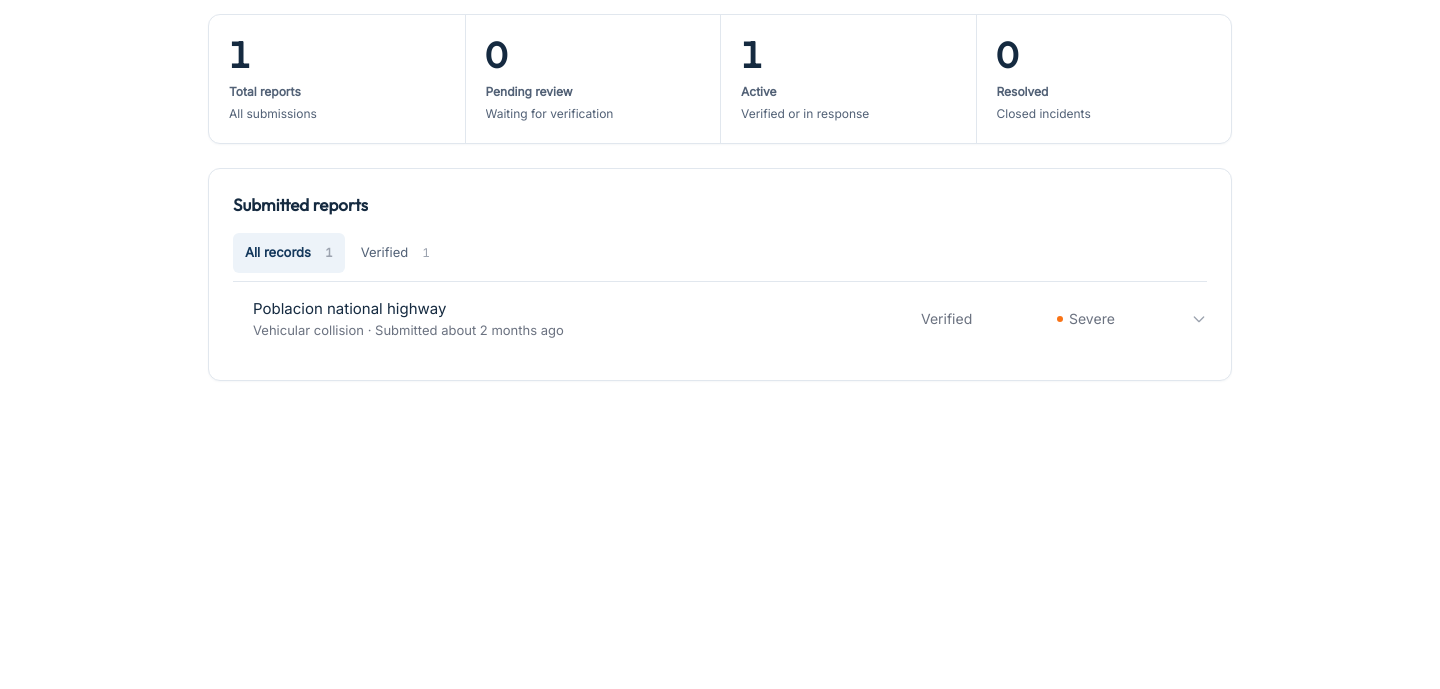
Test case: MyReports Evidence Inspection and Modal Experience › 2. Allows retrying thumbnail loading when network error occurs
The image size is (1440, 689).
Click the heading "Poblacion national highway" at {"x": 350, "y": 308}, box 253,299 -> 446,318
(page scrolled)
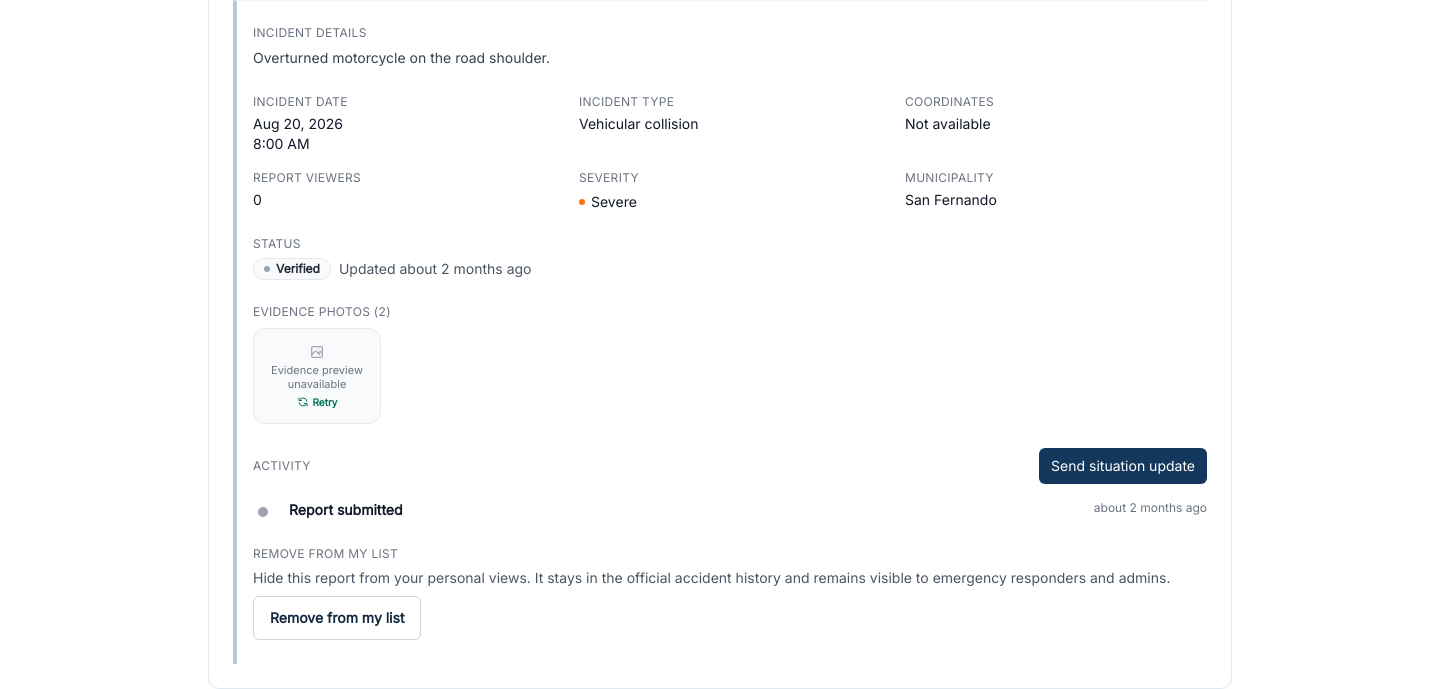
Now the text "Evidence preview unavailable" is shown, box 271,363 -> 363,391
Now the button "Retry" is shown
Click the button "Retry" at {"x": 317, "y": 402}, box 296,396 -> 337,408
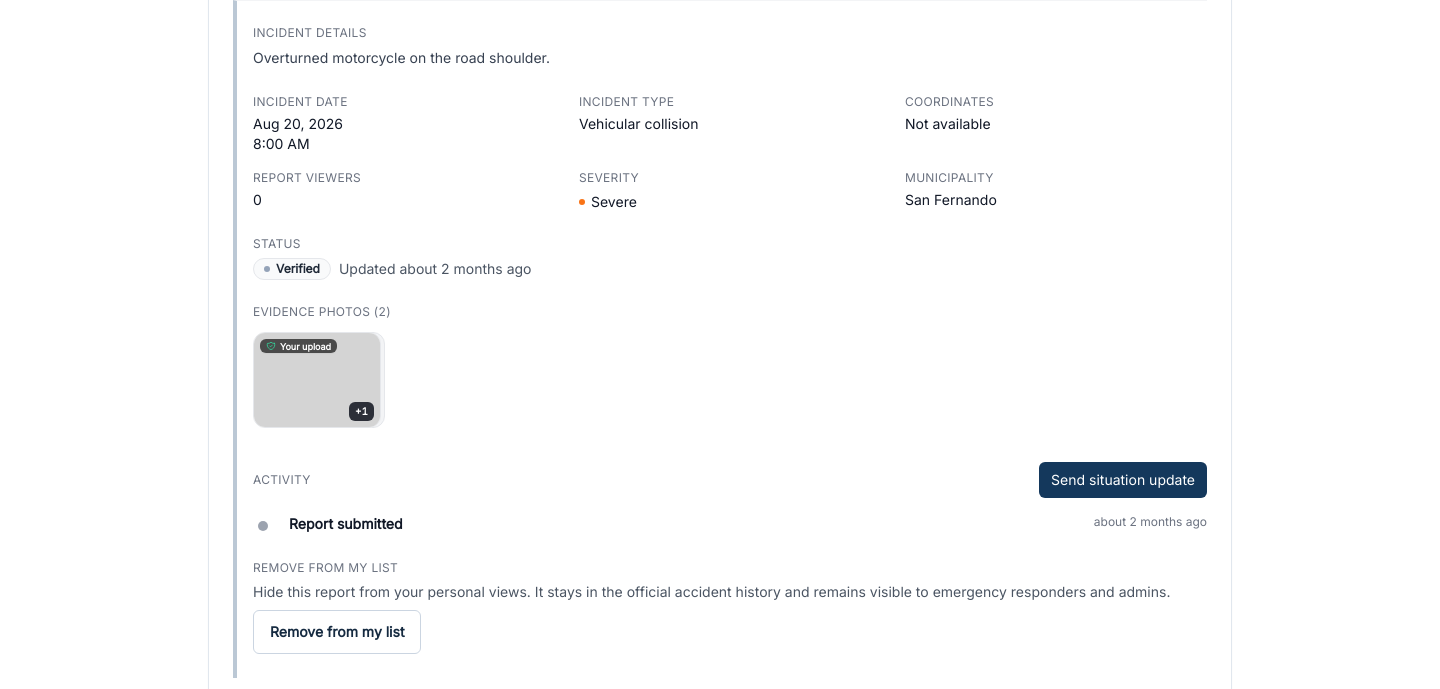
Now the text "Your upload" is shown, box 280,342 -> 331,350
